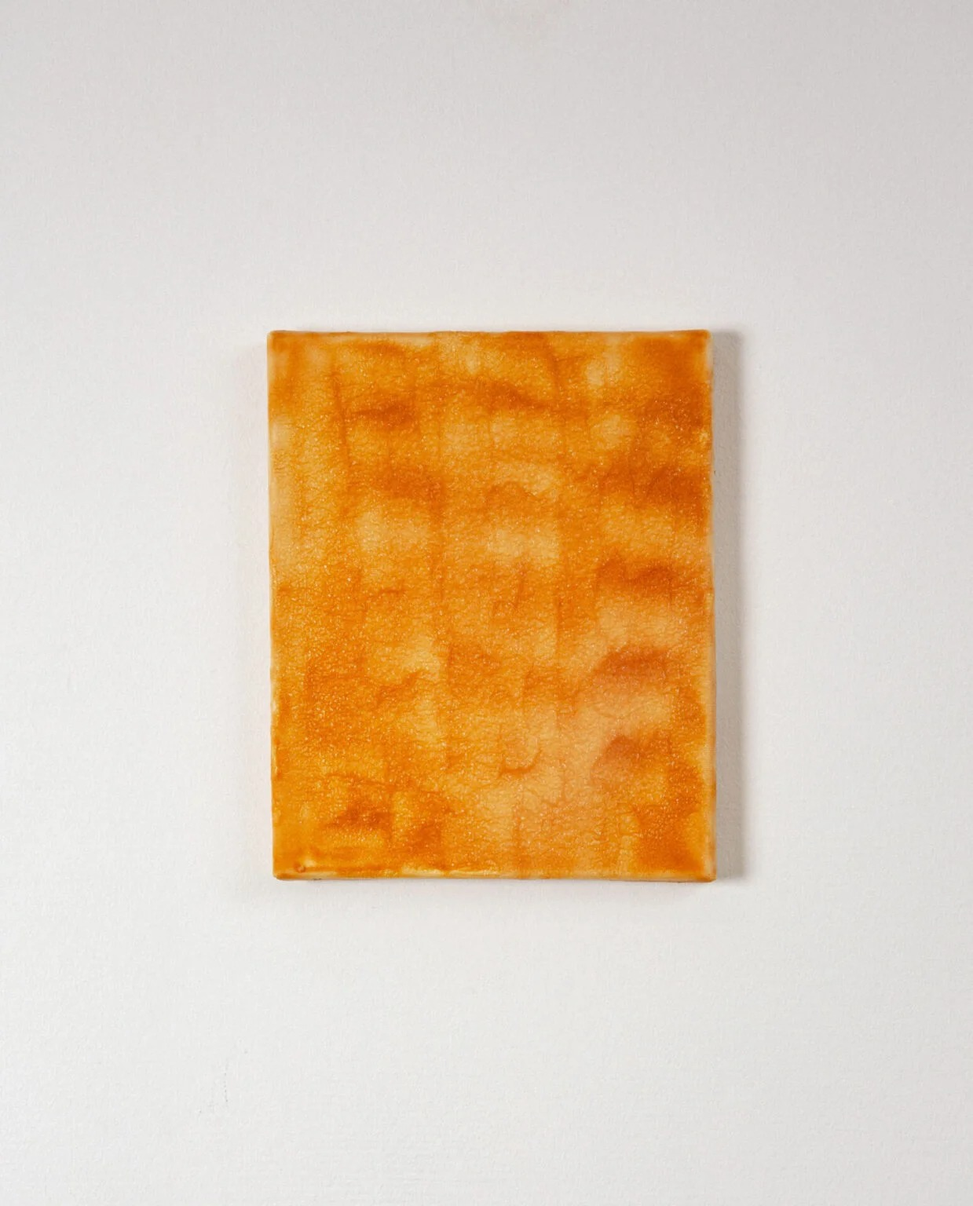painting: (264, 327, 721, 886)
